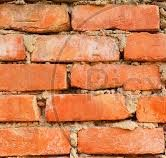brick: (45, 93, 127, 124), (76, 127, 165, 155), (71, 63, 161, 90), (29, 35, 120, 61), (72, 4, 161, 30), (1, 2, 71, 32), (1, 127, 72, 156), (1, 63, 69, 91), (123, 31, 166, 62), (1, 96, 40, 123), (133, 93, 166, 124), (1, 34, 28, 59)
